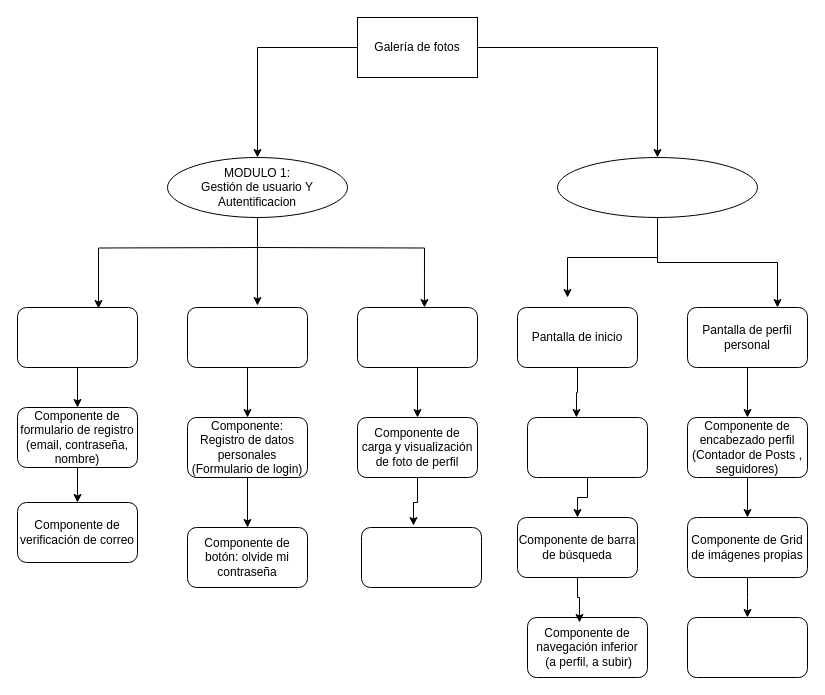
The diagram is 825 pixels wide and 695 high, and some of its shapes have lost their labels. The shapes that lost their labels are listed below. From the top down, each one's centre as x and y in pixels, then its label:
(x=657, y=187): MODULO 2: Experiencia del Usuario y Visualización
(x=77, y=337): Pantalla de crear cuenta
(x=247, y=337): Pantalla de inicio de sesion
(x=417, y=337): Pantalla de editar perfil
(x=587, y=447): Componente de Grid de imágenes (visualización principal)
(x=421, y=557): Componente de formulario de actualización de datos
(x=747, y=647): Componente de Botón: Cerrar sesión
